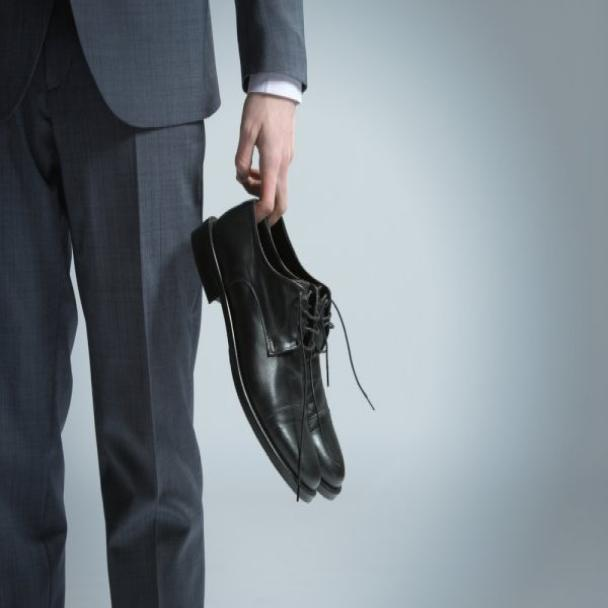Sepatu: (194, 193, 346, 508)
